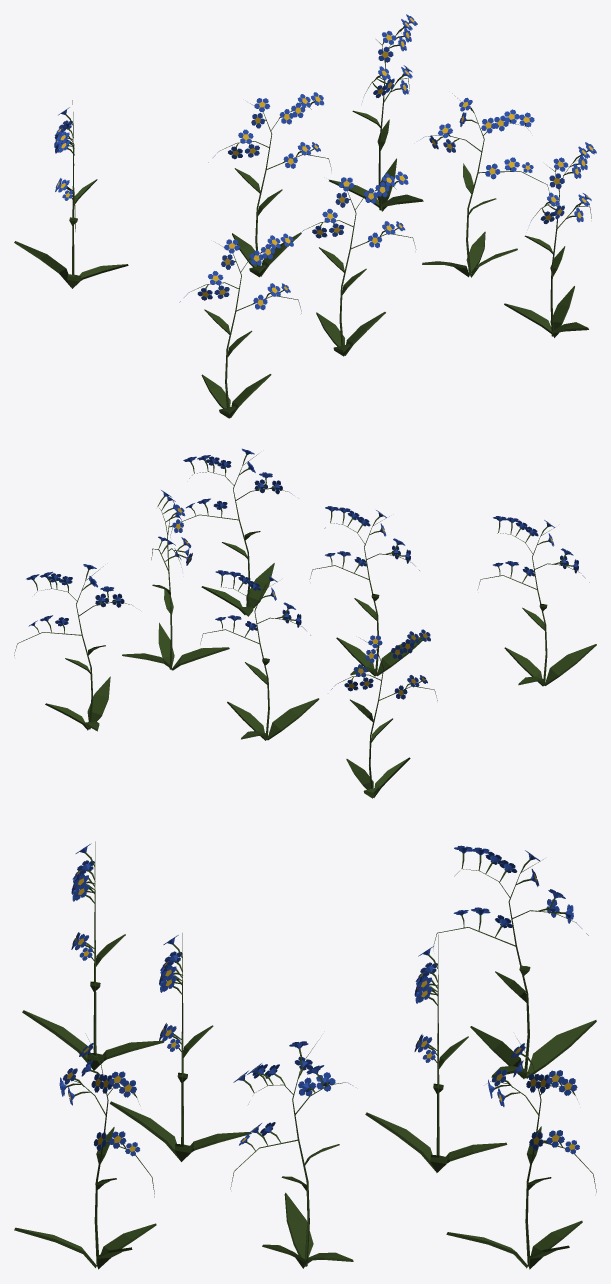
File: 물망초.fbx
3 renders of one model, top to bottom at view 1: azimuth 30°, elevation 25°; view 2: azimuth 150°, elevation 25°; view 3: azimuth 270°, elevation 25°, orthographic. The views are drawn at different scales.
Parts seen in each view (by area): view 1: Object001; view 2: Object001; view 3: Object001.
Part boxes in pixels (x1,y1,x2,y2): Object001: (14, 14, 596, 418); Object001: (14, 448, 596, 798); Object001: (14, 841, 596, 1269).
Bounding box in the file's own units: 271 × 109 × 249.
